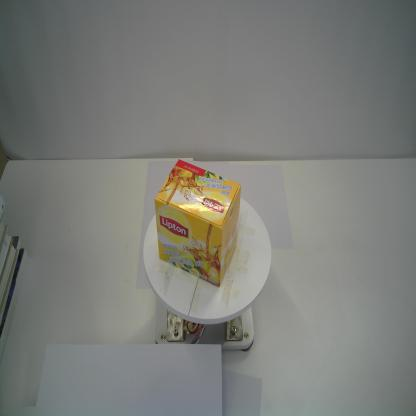Instant Drink: (154, 158, 242, 288)
